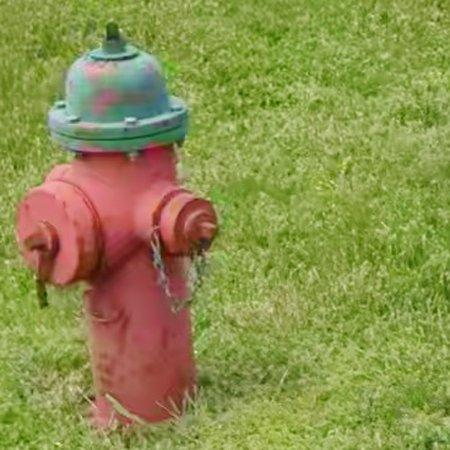a fire hydrant: (16, 23, 218, 428)
